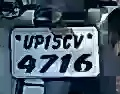1: (58, 51, 75, 77), (44, 35, 52, 52)
4: (17, 53, 38, 77)
5: (52, 34, 61, 53)
6: (73, 53, 95, 74)
7: (39, 54, 58, 75)
C: (61, 32, 72, 52)
P: (34, 33, 45, 50)
U: (23, 34, 35, 51)
V: (71, 32, 85, 52)
